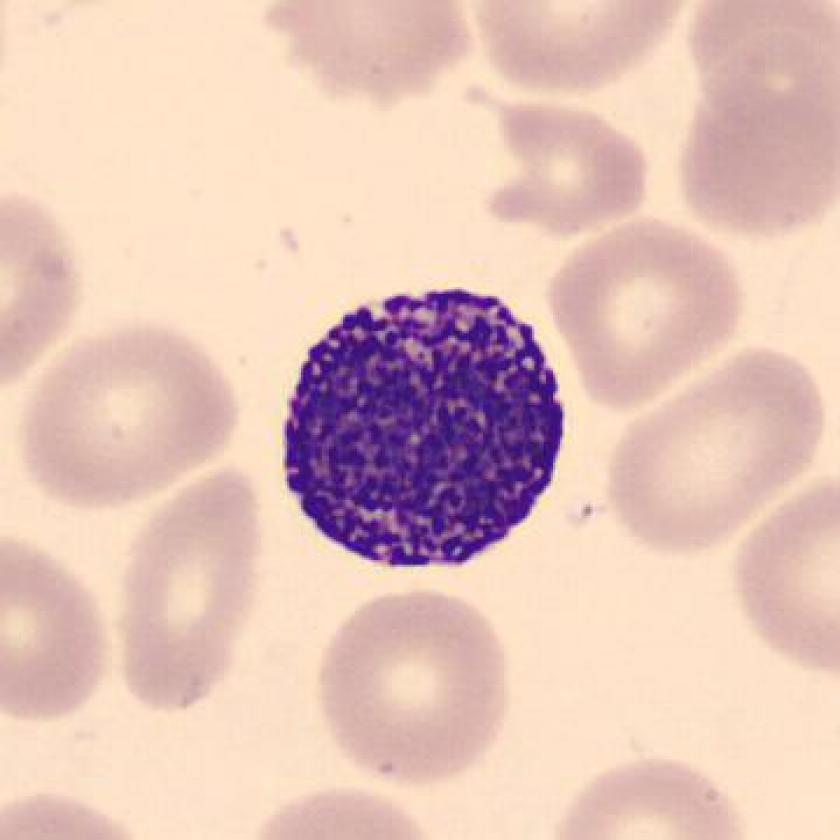basophil: (283, 290, 575, 580)
